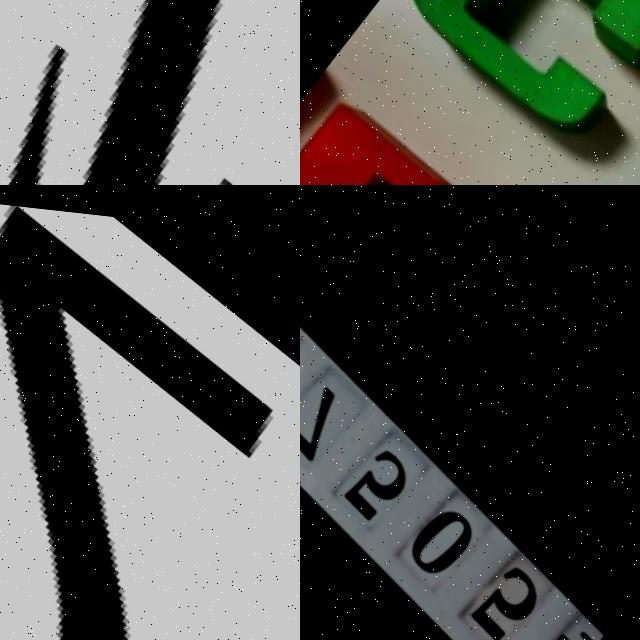0: (390, 471, 499, 590)
2: (0, 185, 300, 640)
4: (522, 591, 610, 640)
5: (329, 419, 430, 530), (461, 533, 563, 640)
7: (300, 351, 373, 474)
C: (375, 0, 640, 154)
E: (300, 80, 539, 185)
T: (0, 0, 300, 185)
